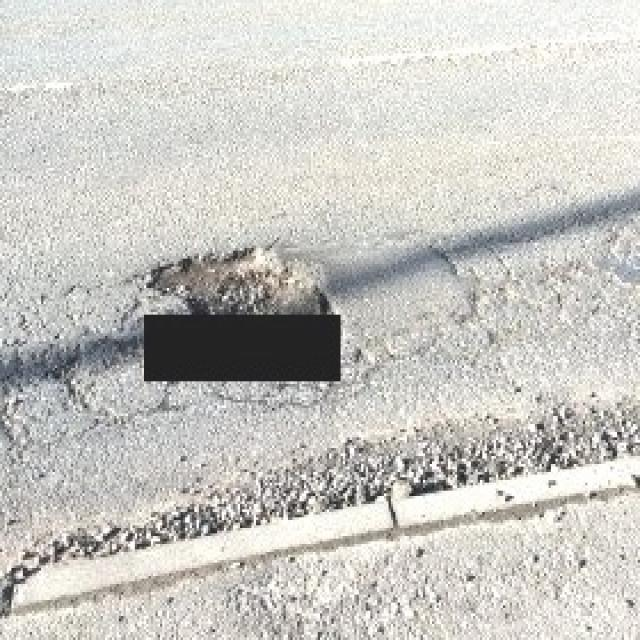road-pothole: (138, 241, 339, 322)
